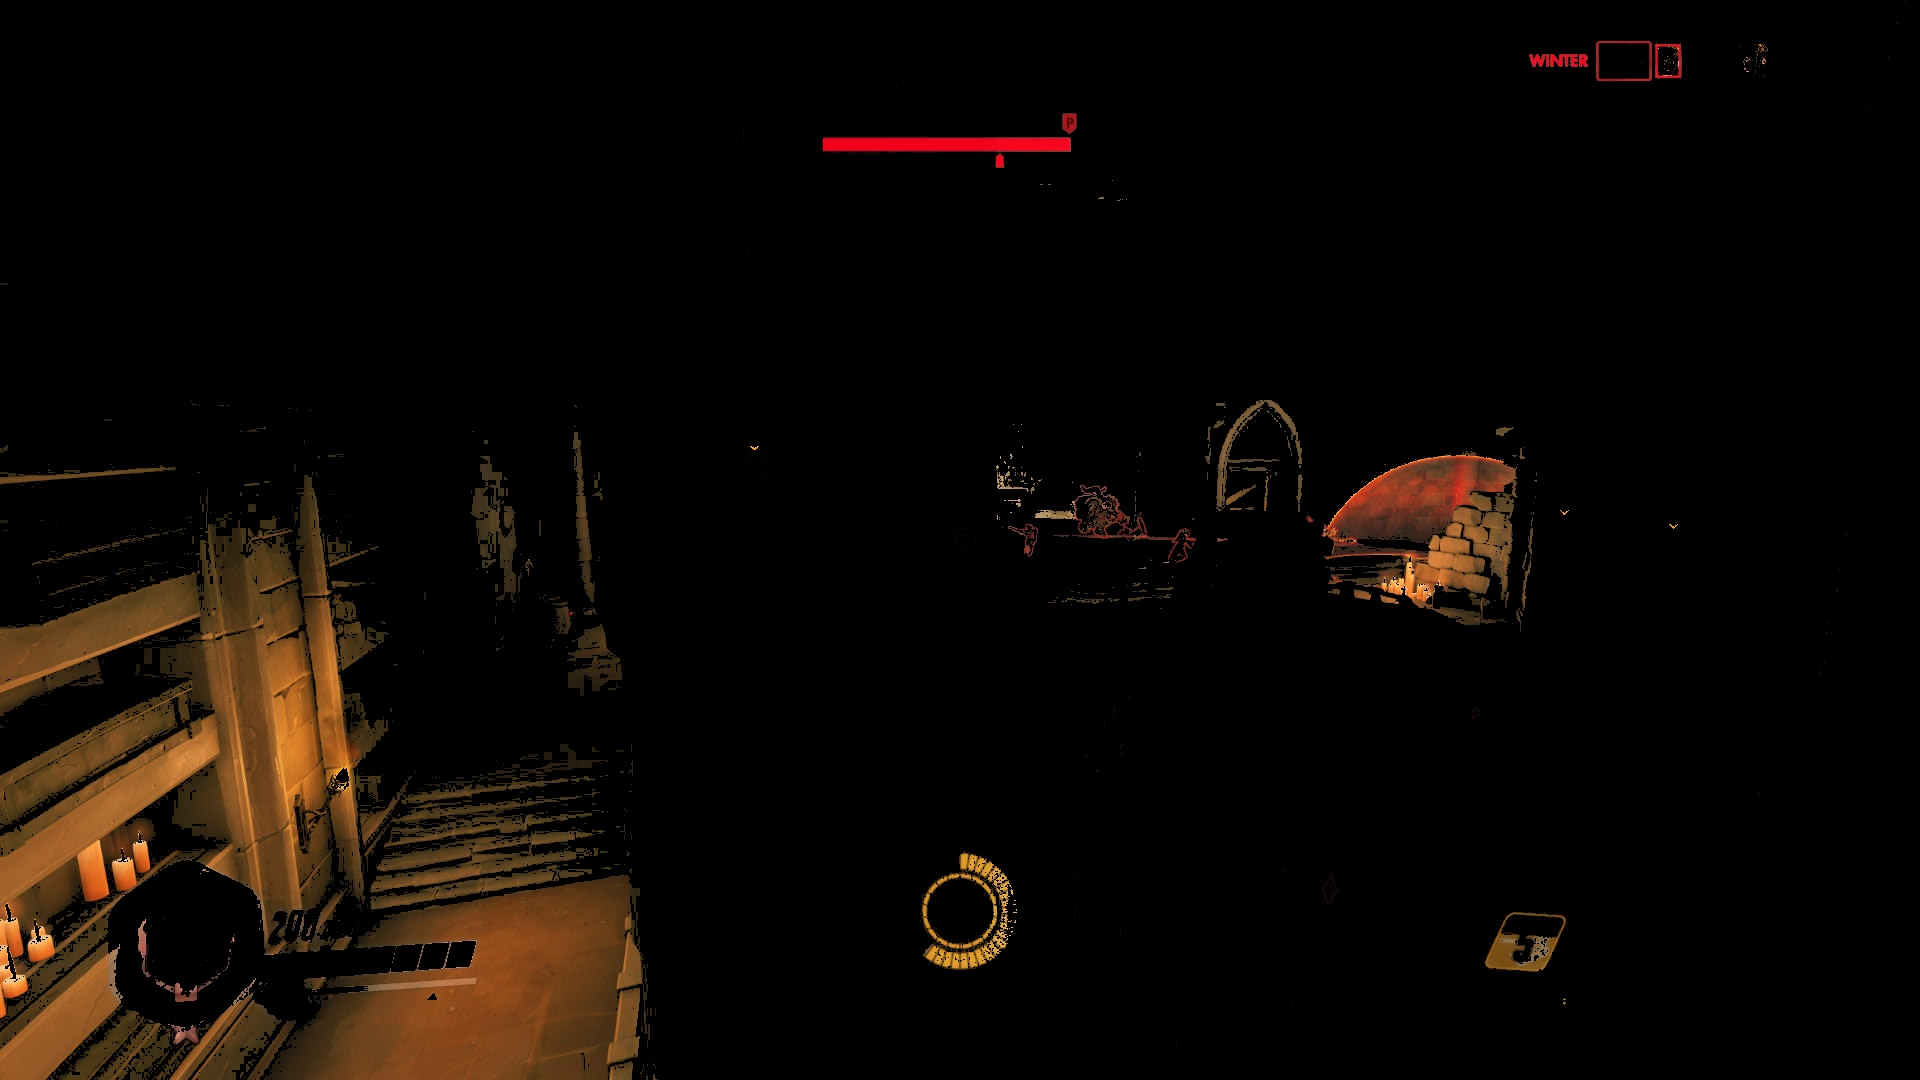widowmaker: (1015, 521, 1040, 560)
